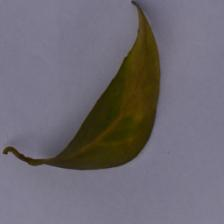greening: (103, 0, 175, 124)
